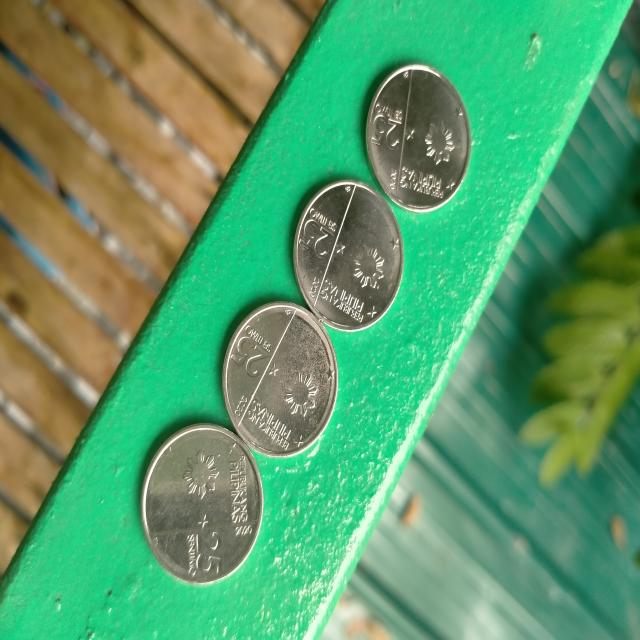25Cent_New_Front: (225, 320, 322, 459), (367, 95, 468, 202)
